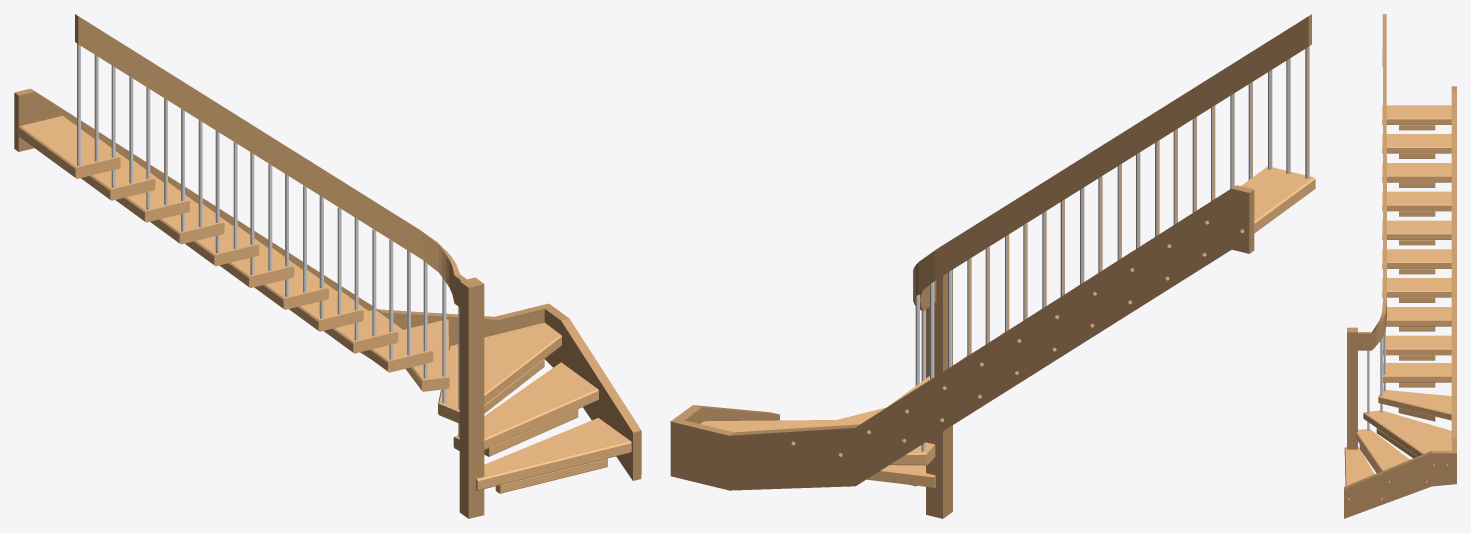
The picture shows the model from 3 angles, left to right: view 1: azimuth 30°, elevation 25°; view 2: azimuth 150°, elevation 25°; view 3: azimuth 270°, elevation 25°; orthographic projection. The views are drawn at different scales.
Parts seen in each view (by area): view 1: stufe mit cylinder; view 2: stufe mit cylinder; view 3: stufe mit cylinder.
Boxes of the visible parts, box(x1,y1,x2,y2) form: stufe mit cylinder: box(14, 14, 641, 518); stufe mit cylinder: box(670, 14, 1315, 518); stufe mit cylinder: box(1344, 14, 1456, 518).
Size of the model in its own units: 8.91 by 9.07 by 2.67.
